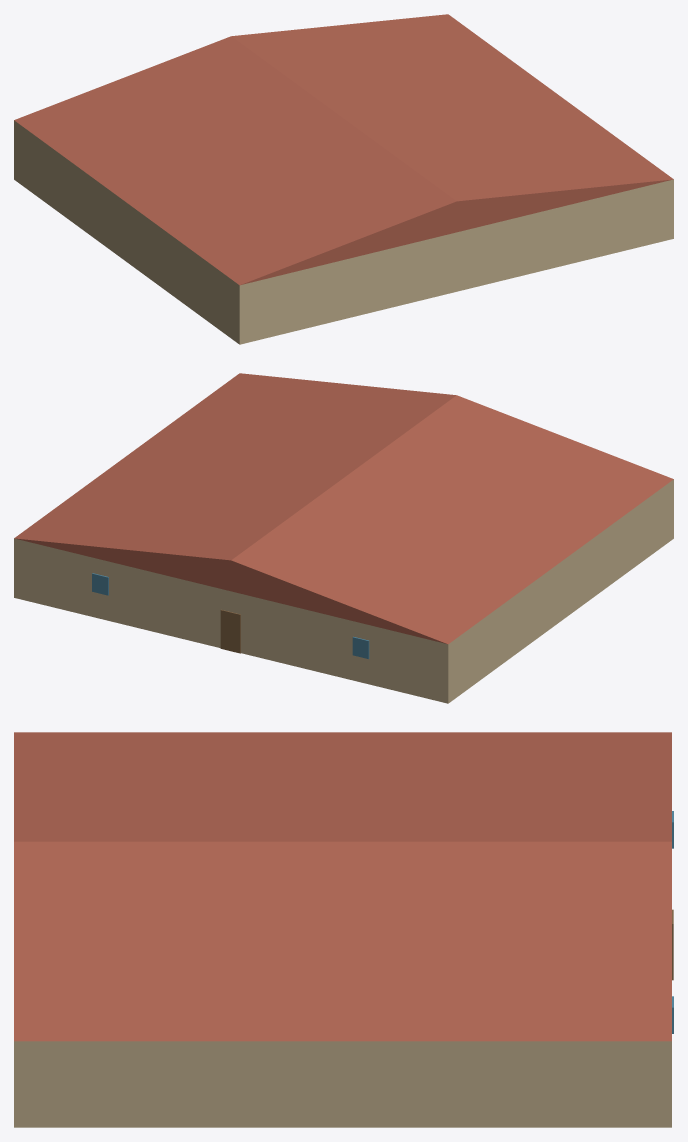
File: landmark_rome.glb
The picture shows the model from 3 angles, top to bottom: view 1: azimuth 30°, elevation 25°; view 2: azimuth 150°, elevation 25°; view 3: azimuth 270°, elevation 25°; orthographic projection. The views are drawn at different scales.
Bounding box in the file's own units: 17.6 × 3.5 × 15.89.
